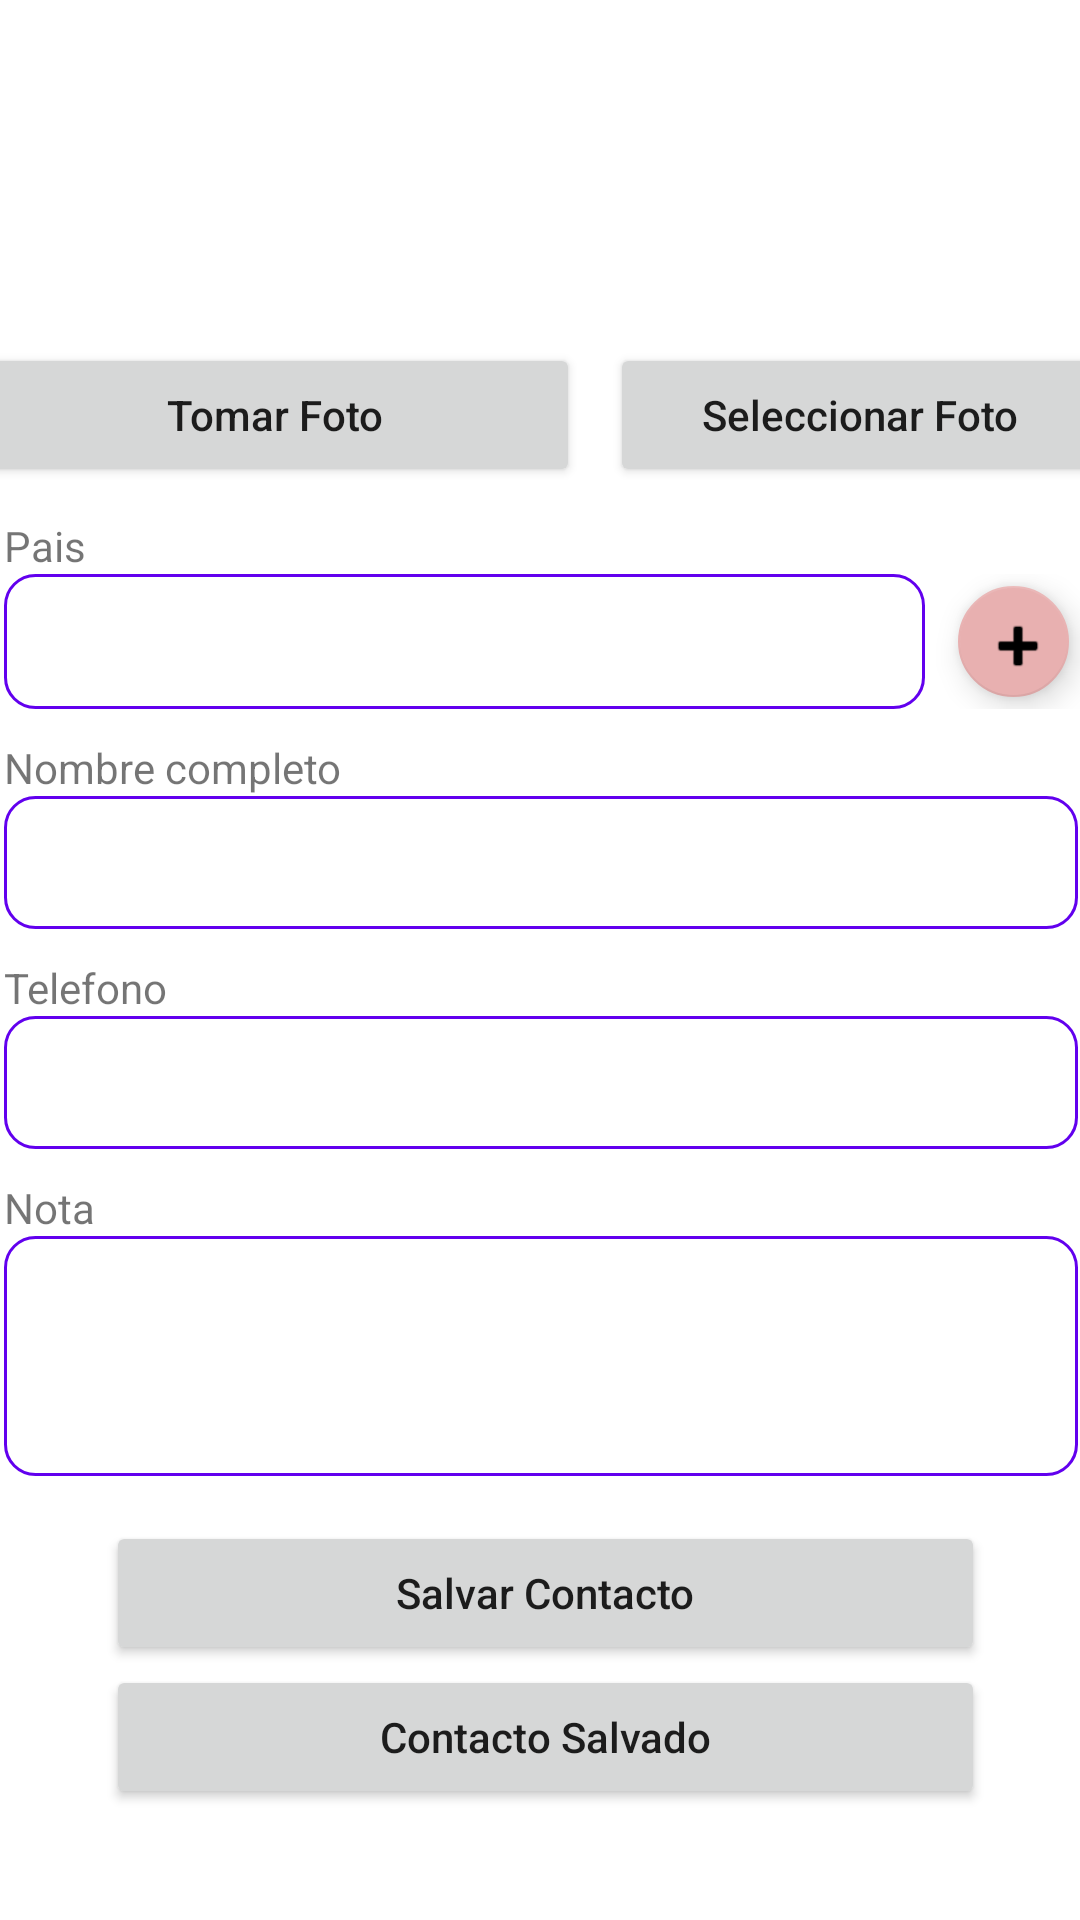

Where to tap for icons on this 1080×1920 app screen, as (x,y):
add: (1015,643)
